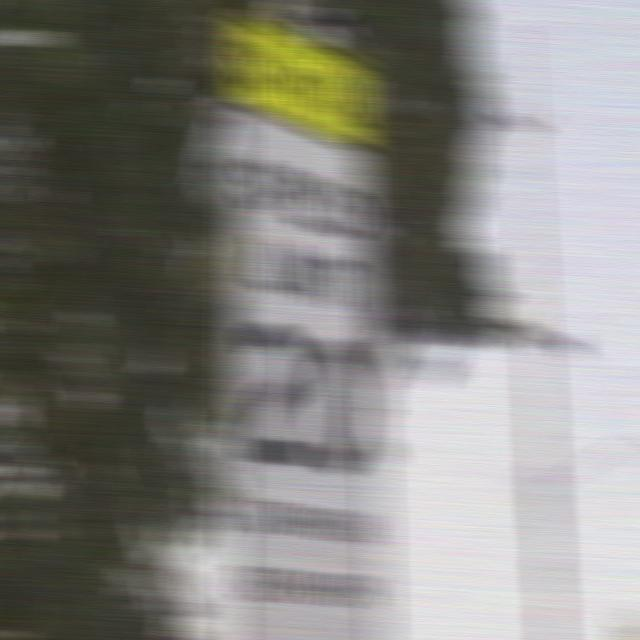speedLimit20: (230, 144, 380, 489)
